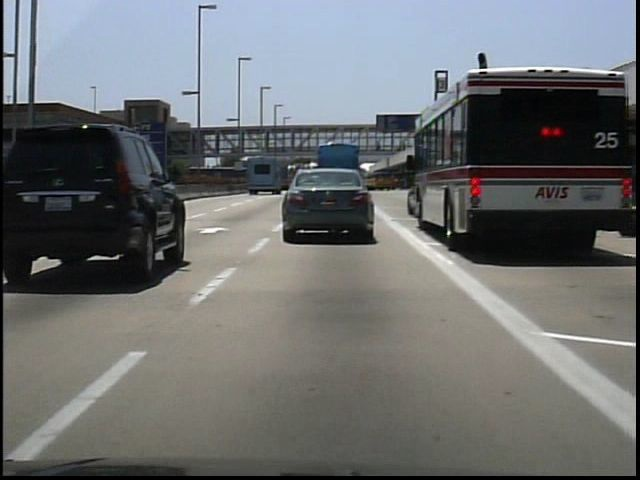person: (398, 136, 411, 158), (373, 137, 387, 157)
